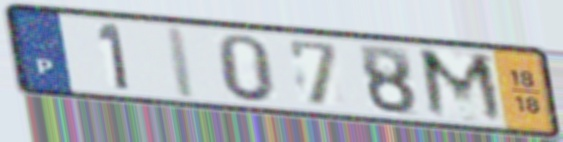0: (212, 32, 279, 104)
1: (93, 21, 134, 95)
7: (287, 37, 342, 109)
8: (357, 43, 421, 117)
I: (162, 23, 200, 102)
M: (414, 45, 511, 128)
